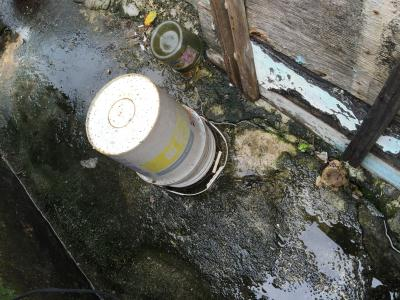bowl: (144, 18, 207, 78)
bucket: (83, 70, 231, 202)
